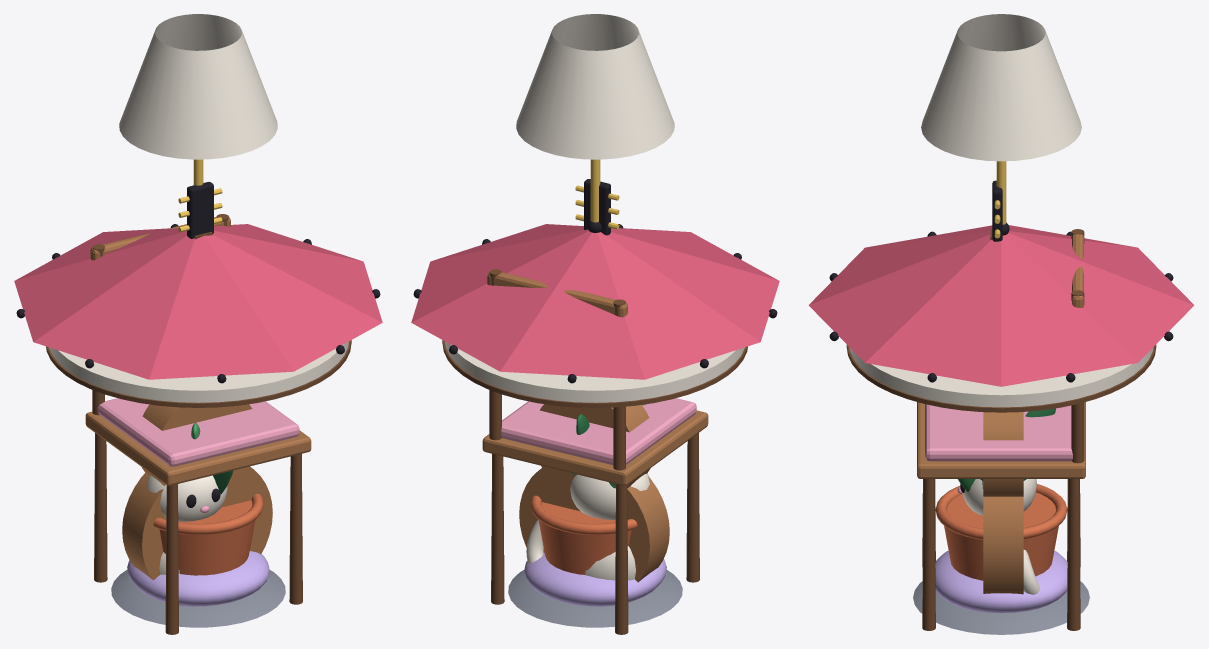
Rendered from lucina-props.glb.
3 renders of one model, left to right at view 1: azimuth 30°, elevation 25°; view 2: azimuth 150°, elevation 25°; view 3: azimuth 270°, elevation 25°, orthographic.
Visible parts, largest first — view 1: umbrella, chair, lamp, table, guitar, plant, cushion, cat_plush; view 2: umbrella, chair, lamp, table, guitar, plant, cushion, cat_plush; view 3: umbrella, lamp, chair, table, guitar, plant, cushion, cat_plush.
Part boxes in pixels (box(x1,y1,x2,y2)): umbrella: box(14, 224, 382, 383); chair: box(85, 214, 311, 634); lamp: box(119, 14, 277, 185); table: box(46, 340, 351, 627); guitar: box(122, 182, 272, 580); plant: box(153, 423, 263, 575); cushion: box(127, 551, 269, 606); cat_plush: box(146, 475, 227, 606); umbrella: box(411, 220, 779, 383); chair: box(482, 269, 708, 634); lamp: box(516, 14, 674, 222); table: box(442, 340, 747, 627); guitar: box(519, 179, 669, 582); plant: box(530, 404, 646, 574); cushion: box(524, 552, 666, 606); cat_plush: box(526, 473, 649, 580); umbrella: box(808, 222, 1194, 386); lamp: box(921, 14, 1081, 224); chair: box(917, 229, 1085, 630); table: box(846, 344, 1156, 634); guitar: box(982, 180, 1023, 594); plant: box(935, 408, 1067, 580); cushion: box(935, 550, 1067, 613); cat_plush: box(957, 479, 1039, 594).
Size of the model in its own units: 0.96 by 1.55 by 0.96.
